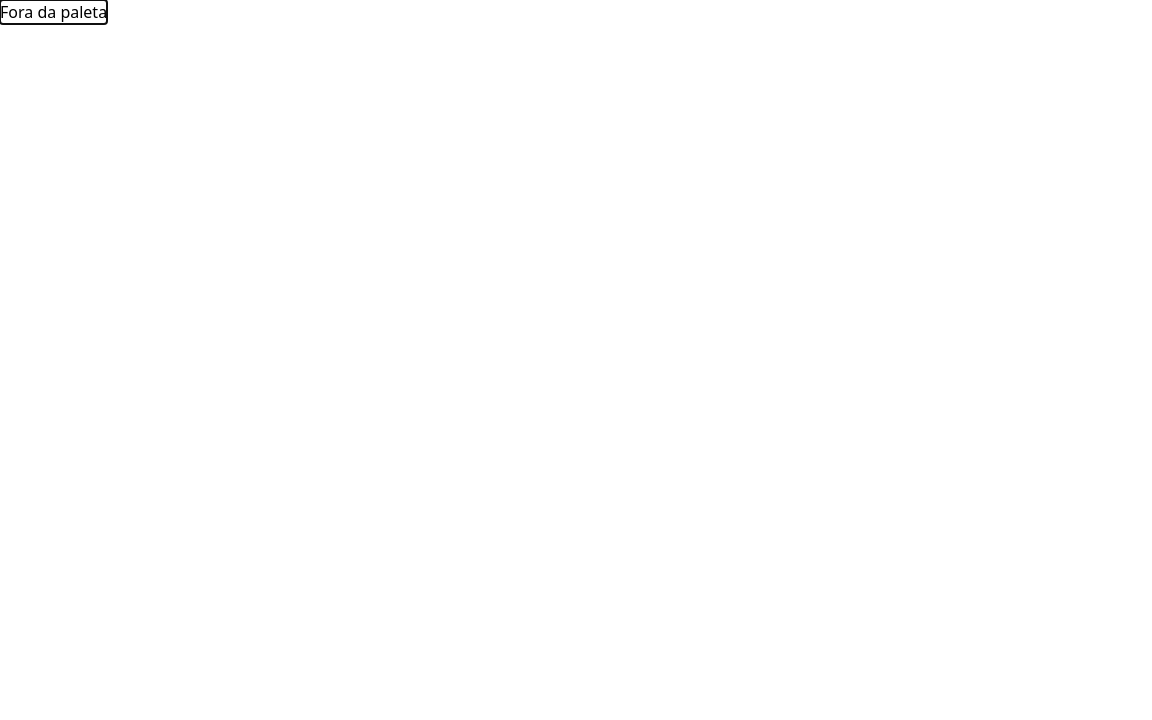
Test: CommandPalette › botão "Fechar busca rápida" fecha a paleta e devolve foco a quem tinha foco antes da abertura
Press k
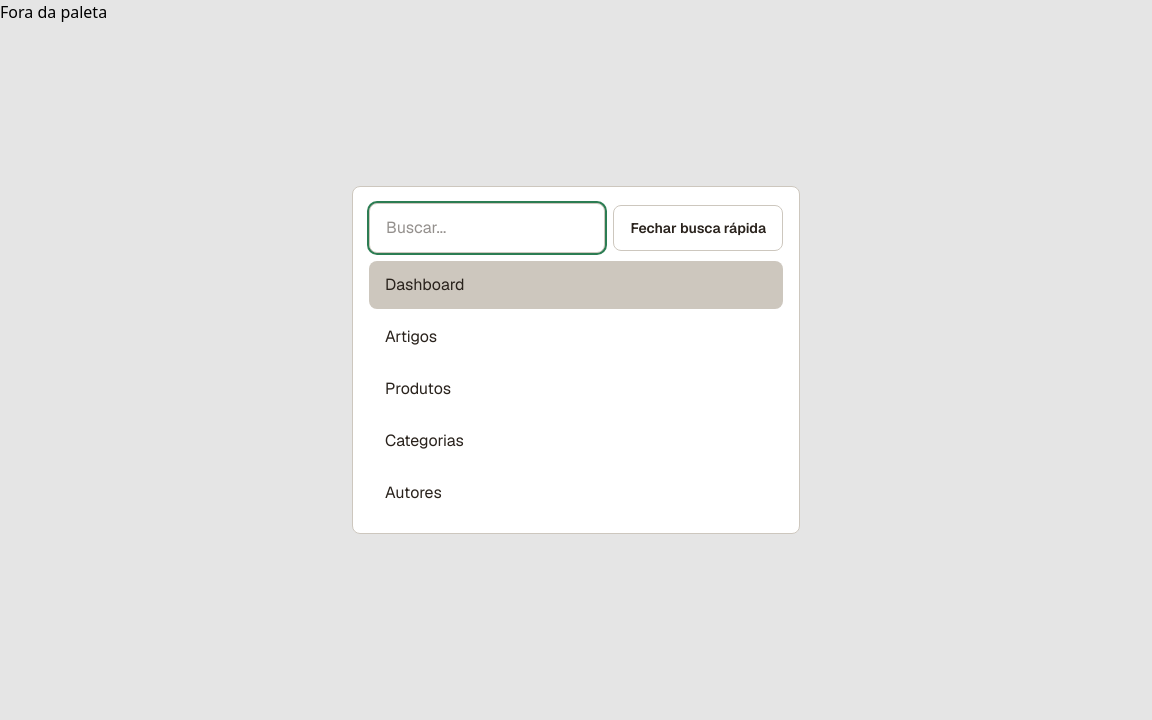
Click the button "Fechar busca rápida" at (698, 228), box top-left (613, 205), bottom-right (783, 251)
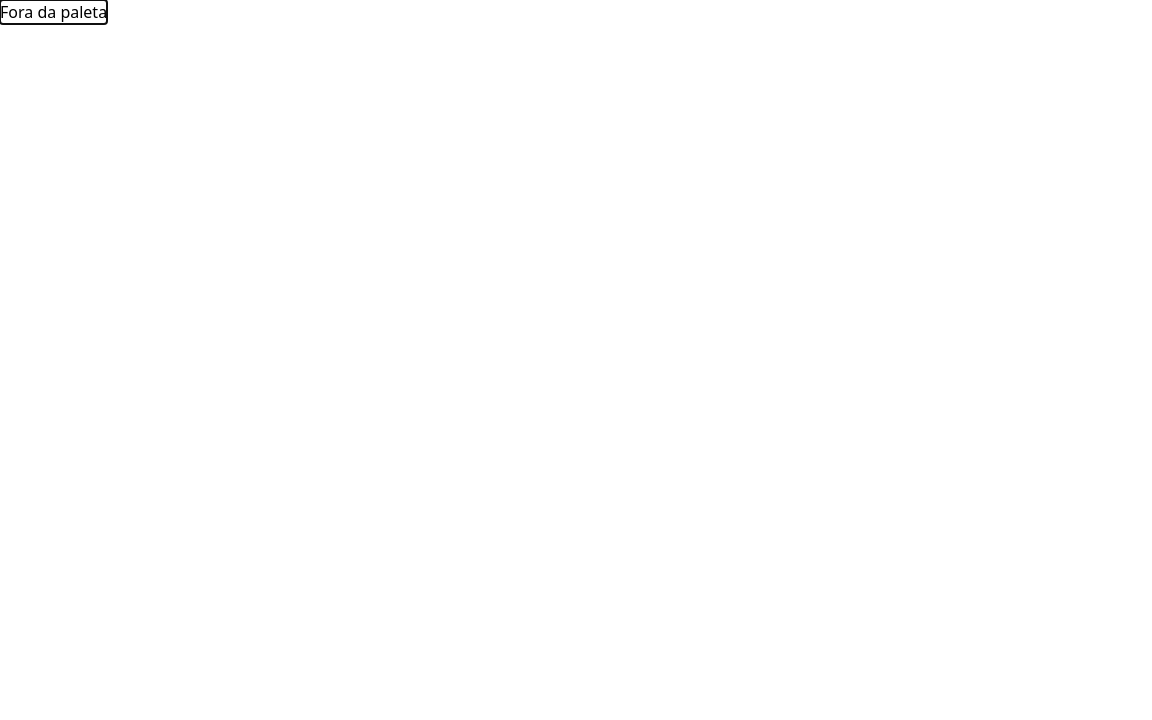
expect the dropdown is gone: met
